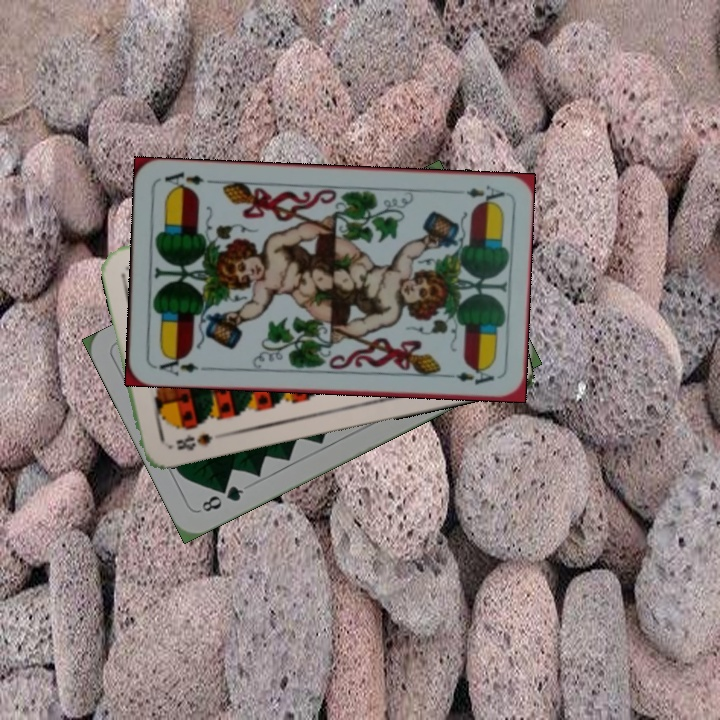EA: (151, 351, 201, 379), (462, 181, 508, 206)
G8: (197, 481, 247, 515)
S8: (171, 429, 215, 453)
